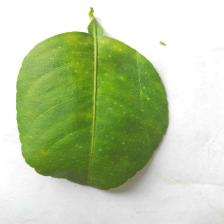greening: (52, 46, 146, 138)
